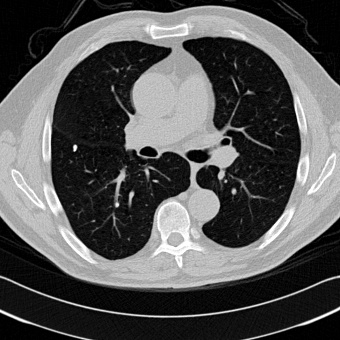PN: (71, 144, 77, 150)
